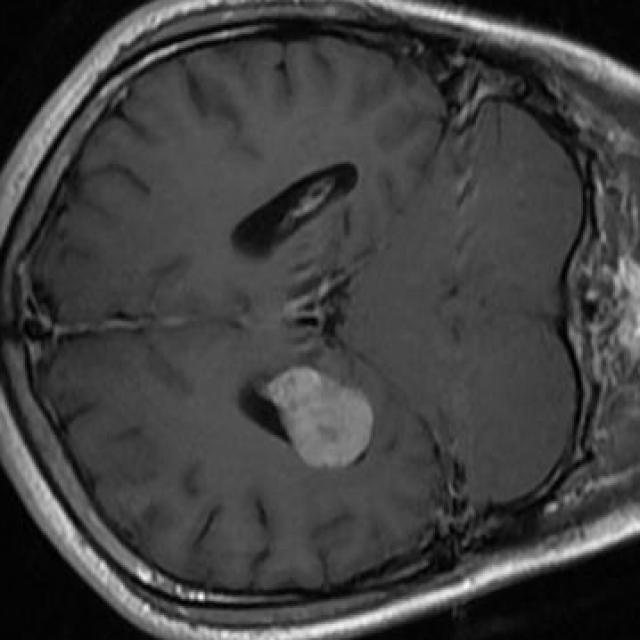meningioma: (266, 367, 373, 469)
